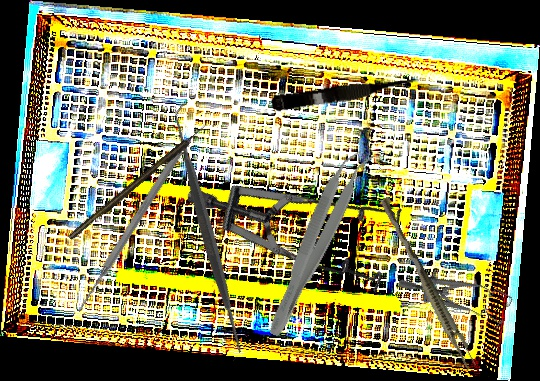Hook Surgical: (66, 122, 212, 241)
Micro Scissor: (269, 72, 425, 115)
Pusher: (73, 147, 185, 315)
Spatula Surgical: (78, 103, 338, 362)
Speculum: (182, 91, 433, 346), (396, 245, 516, 341)
Tissue Forceps: (261, 143, 376, 344), (373, 196, 481, 371)
